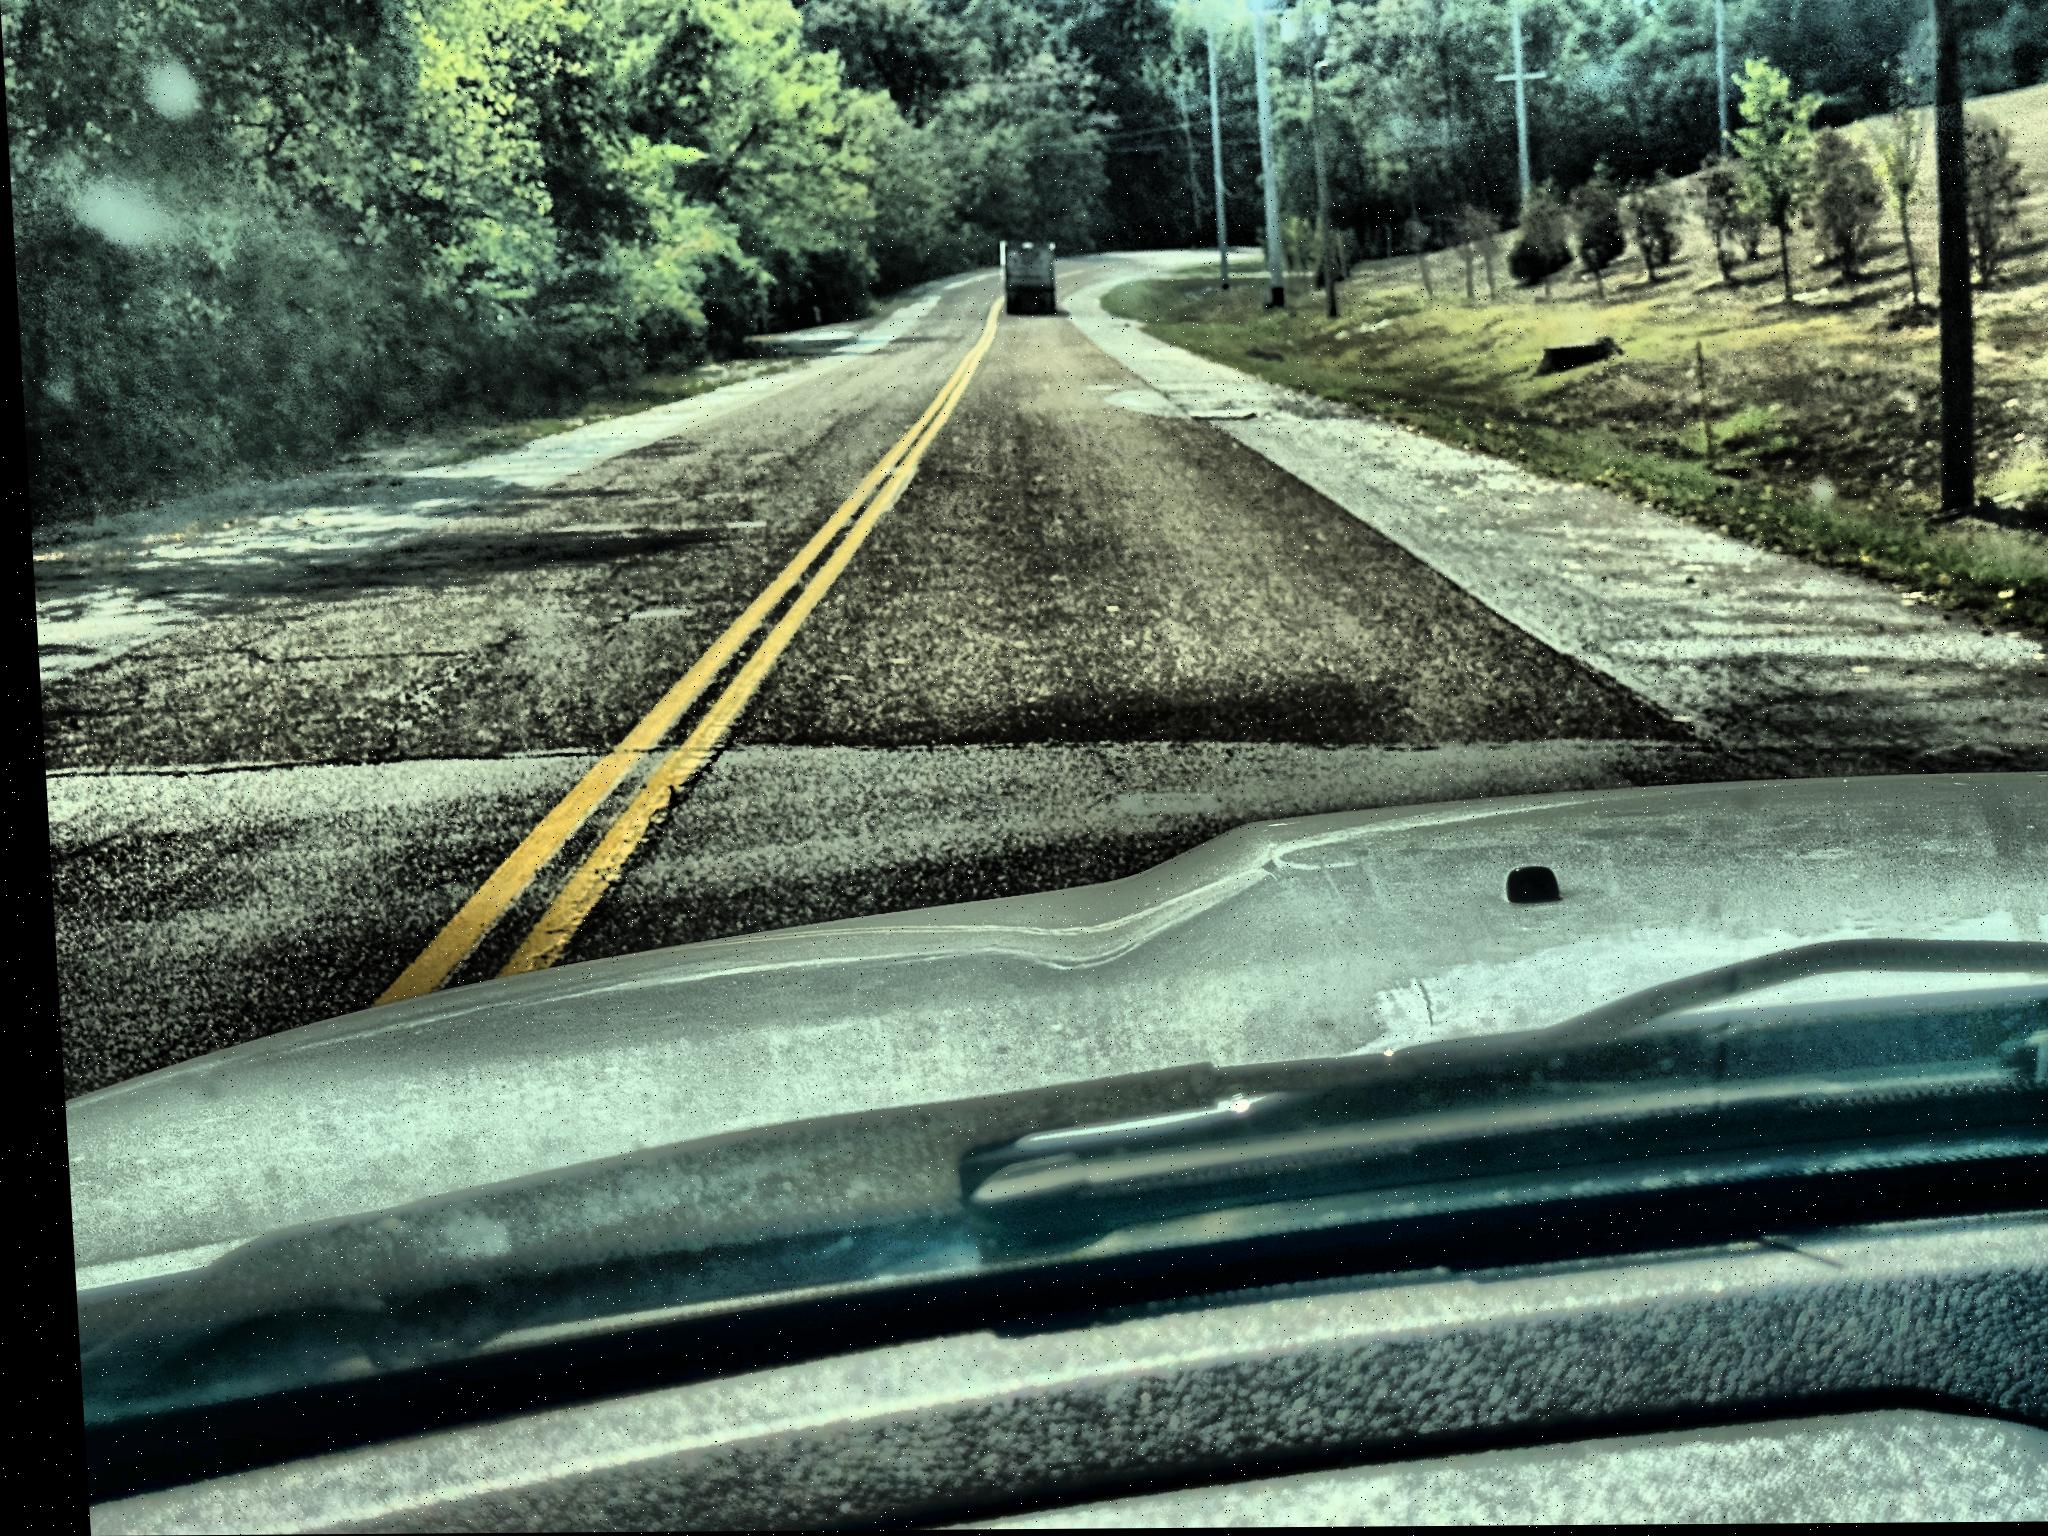pothole: (1174, 399, 1264, 429)
